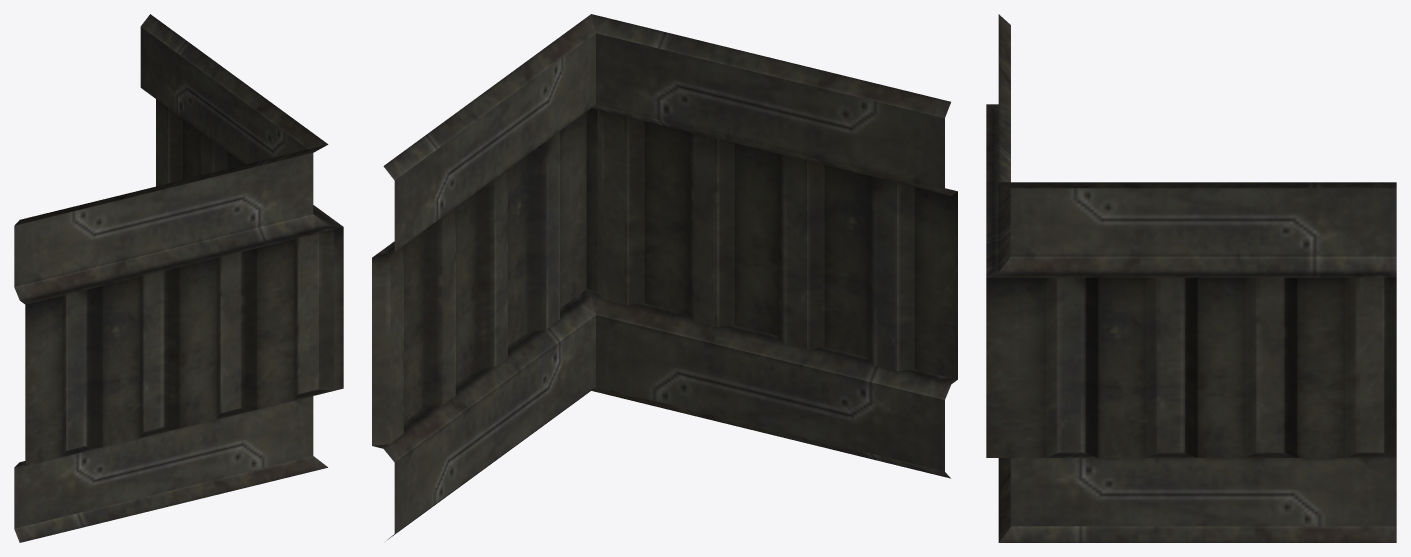
Rendered from pplant_bulkhead_concave_short_extender.dae.
3 views of the same model, side by side, from view 1: azimuth 30°, elevation 25°; view 2: azimuth 150°, elevation 25°; view 3: azimuth 270°, elevation 25° (orthographic). The views are drawn at different scales.
Visible parts, largest first — view 1: bulkhead_concave_short_extender; view 2: bulkhead_concave_short_extender; view 3: bulkhead_concave_short_extender.
Boxes of the visible parts, left/top/right/bottom form: bulkhead_concave_short_extender: left=14, top=14, right=343, bottom=542; bulkhead_concave_short_extender: left=372, top=14, right=957, bottom=539; bulkhead_concave_short_extender: left=986, top=14, right=1396, bottom=542.
Size of the model in its own units: 2.06 by 2 by 2.06.
